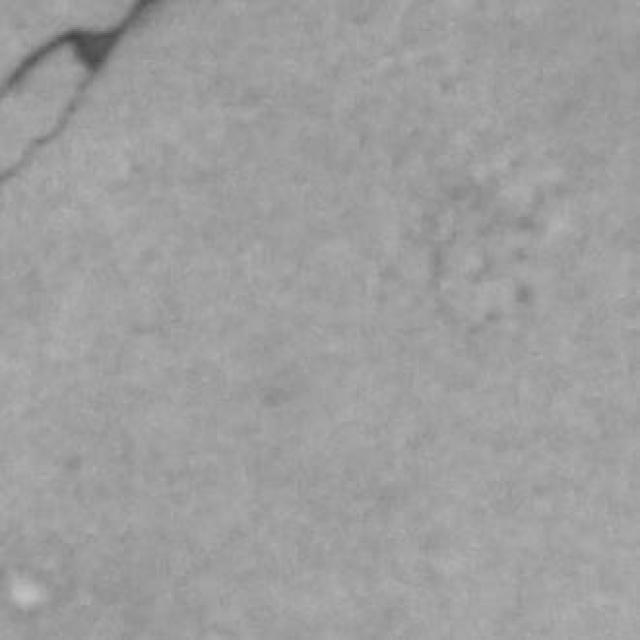crack: (0, 0, 164, 184)
